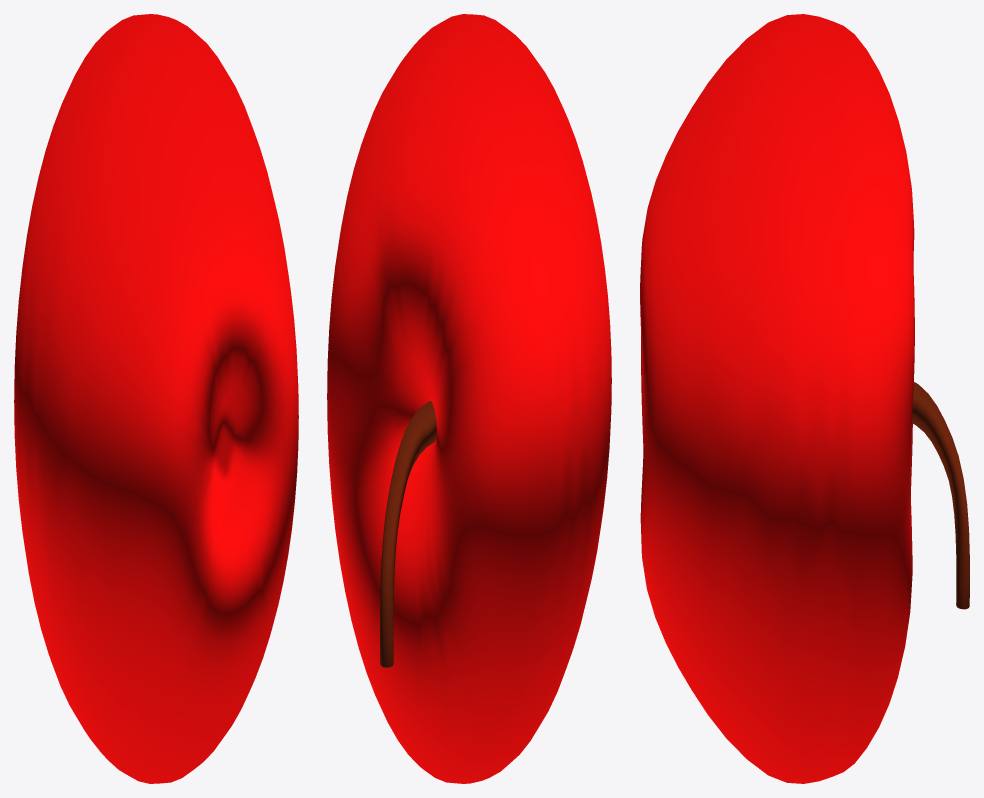
File: man3.fbx
3 renders of one model, left to right at view 1: azimuth 30°, elevation 25°; view 2: azimuth 150°, elevation 25°; view 3: azimuth 270°, elevation 25°, orthographic.
Parts seen in each view (by area): view 1: b; view 2: b, a; view 3: b, a.
Boxes of the visible parts, x1,y1,x2,y2 form: b: [14, 14, 298, 783]; b: [327, 14, 611, 783]; a: [380, 401, 436, 667]; b: [640, 14, 914, 783]; a: [912, 382, 969, 609].
Bounding box in the file's own units: 80.74 × 247 × 96.9.
